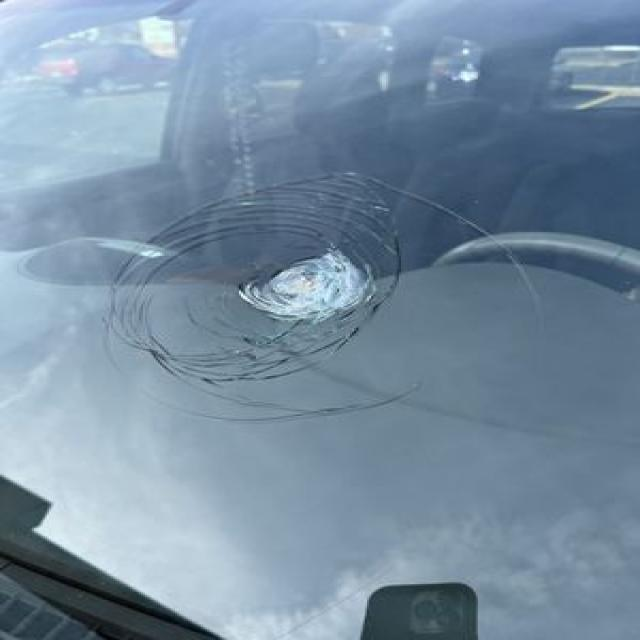crack: (88, 166, 552, 424)
